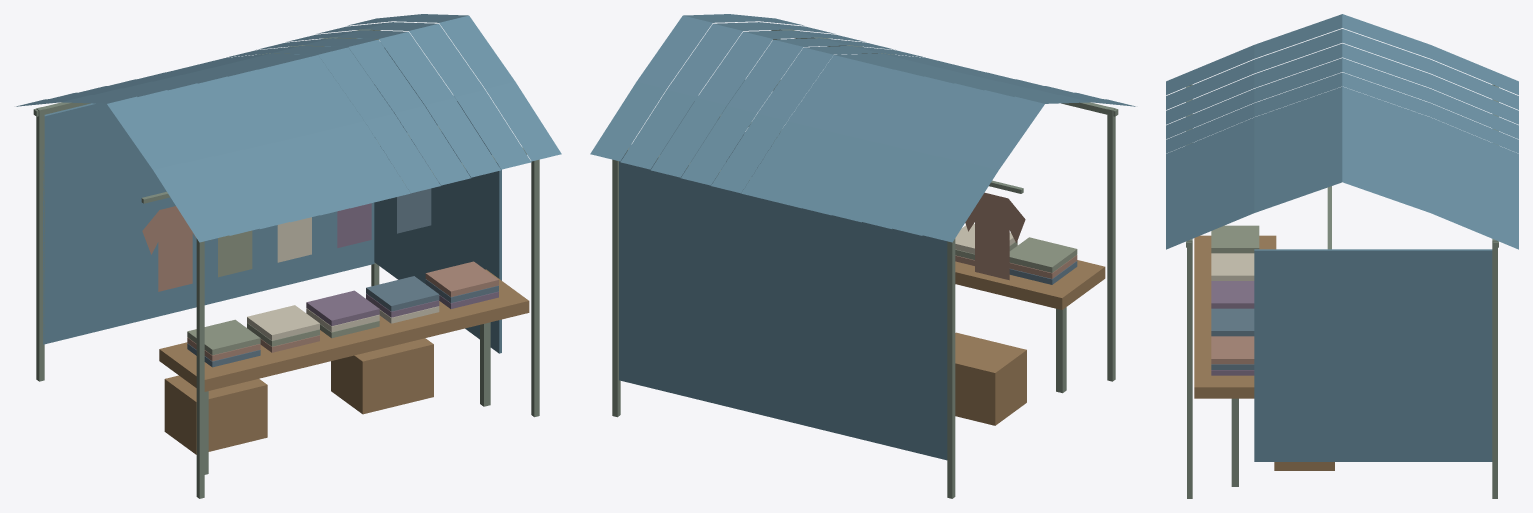
Rendered from stall_blue.glb.
3 views of the same model, side by side, from view 1: azimuth 30°, elevation 25°; view 2: azimuth 150°, elevation 25°; view 3: azimuth 270°, elevation 25° (orthographic). The views are drawn at different scales.
Visible parts, largest first — view 1: stall_blue; view 2: stall_blue; view 3: stall_blue.
Boxes of the visible parts, x1=… form: stall_blue: x1=16, y1=14, x2=561, y2=498; stall_blue: x1=590, y1=14, x2=1135, y2=498; stall_blue: x1=1166, y1=14, x2=1518, y2=498.
Bounding box in the file's own units: 3.16 × 2.82 × 2.8.
